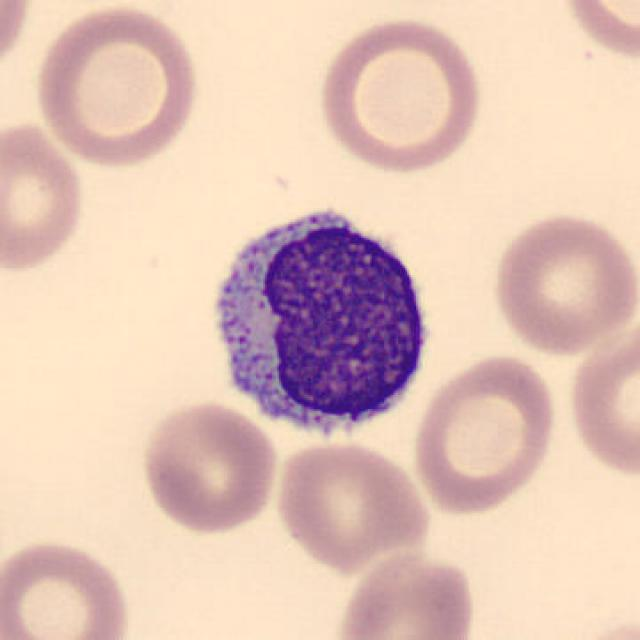Lymphocyte: (197, 196, 441, 451)
RBC: (29, 2, 202, 171), (311, 12, 487, 176), (409, 349, 562, 518), (487, 208, 637, 358), (270, 437, 432, 575), (137, 398, 281, 536), (0, 534, 137, 640), (0, 116, 89, 275), (332, 546, 479, 640), (562, 314, 638, 483), (551, 0, 640, 67), (0, 0, 35, 86), (558, 612, 638, 640)
